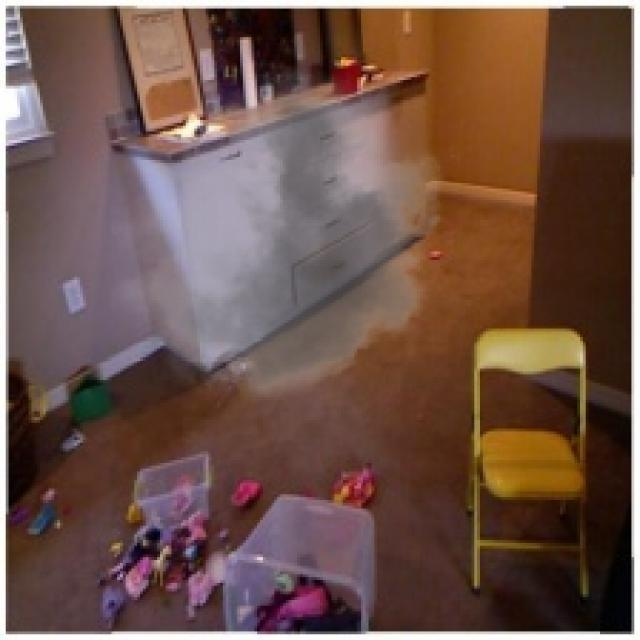Smoke: (108, 66, 460, 414)
